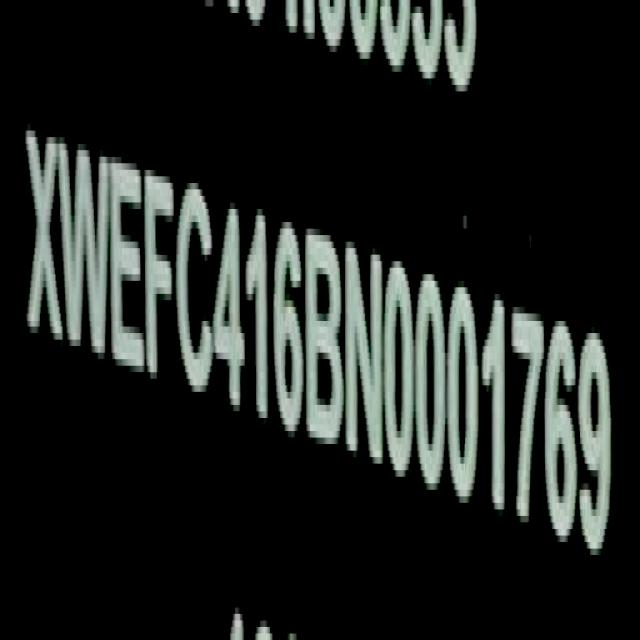0: (448, 274, 480, 514), (387, 248, 418, 488), (417, 262, 447, 500)
1: (482, 284, 507, 520), (246, 195, 269, 430)
4: (213, 182, 245, 424)
6: (547, 307, 580, 548), (272, 209, 304, 443)
7: (512, 292, 542, 546)
9: (580, 319, 612, 562)
B: (305, 218, 345, 458)
C: (178, 166, 216, 409)
E: (110, 138, 145, 392)
F: (144, 147, 177, 404)
N: (343, 232, 384, 489)
W: (60, 118, 110, 377)
X: (23, 106, 62, 362)
